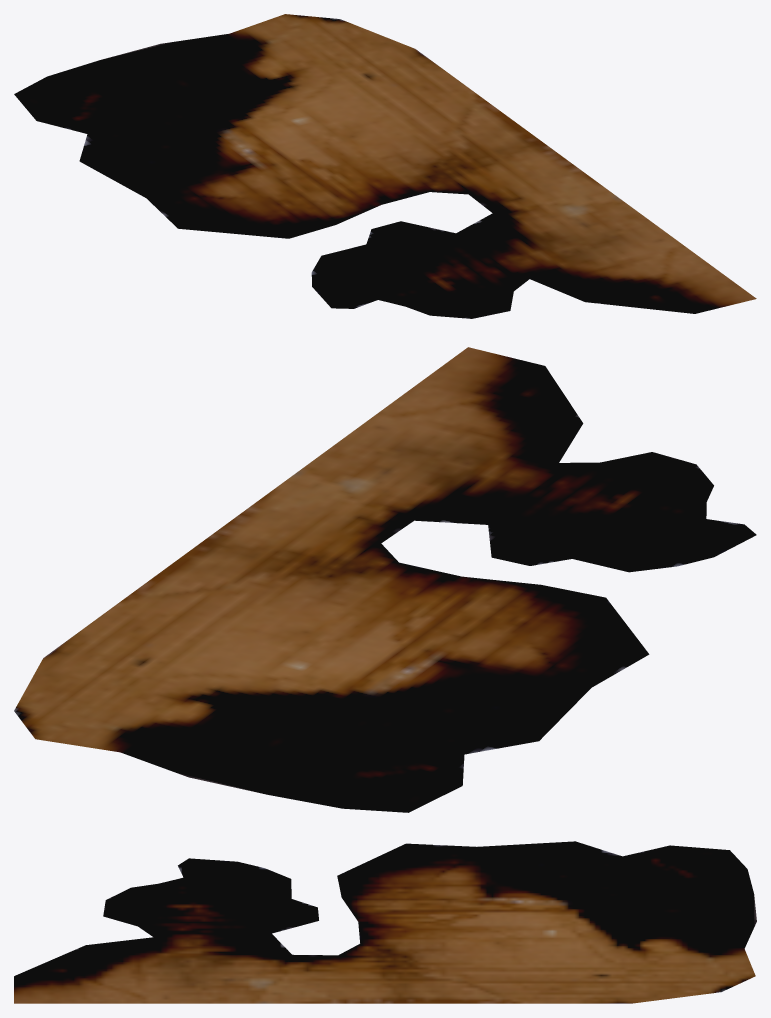
Rendered from cardboard_slide_5.FBX.
3 renders of one model, top to bottom at view 1: azimuth 30°, elevation 25°; view 2: azimuth 150°, elevation 25°; view 3: azimuth 270°, elevation 25°, orthographic. The views are drawn at different scales.
Visible parts, largest first — view 1: cardboard_slide_5; view 2: cardboard_slide_5; view 3: cardboard_slide_5.
Boxes of the visible parts, x1=… form: cardboard_slide_5: x1=14, y1=14, x2=756, y2=318; cardboard_slide_5: x1=14, y1=347, x2=756, y2=812; cardboard_slide_5: x1=14, y1=841, x2=756, y2=1003.
Size of the model in its own units: 60.86 by 2.63e-05 by 118.
